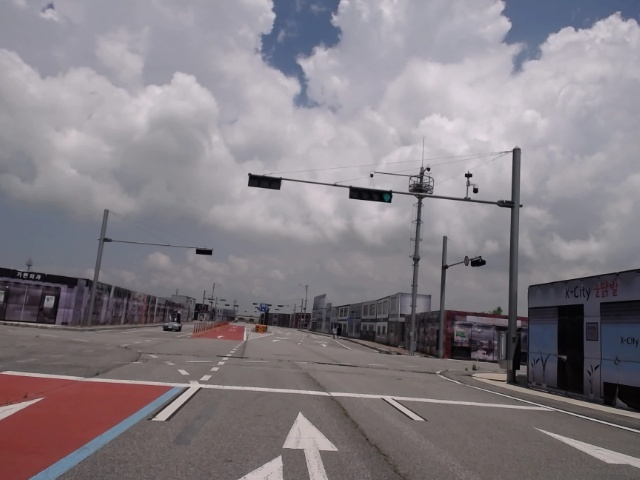straight_green_4: (351, 188, 393, 203)
